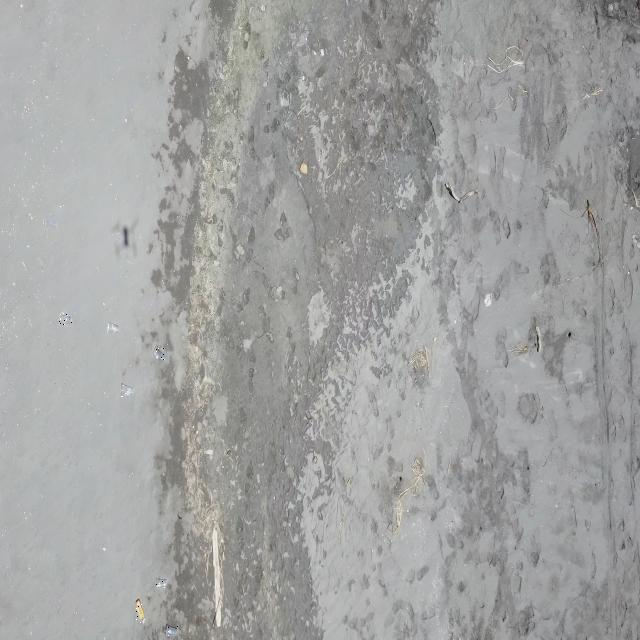plastic-bottle: (136, 598, 146, 623)
takeaway-cup: (105, 321, 121, 336), (166, 623, 180, 640), (119, 383, 134, 398), (152, 347, 166, 362), (58, 313, 73, 327), (156, 578, 167, 590)
